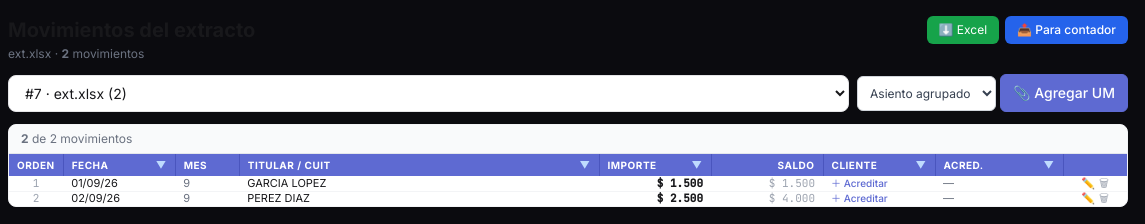
it: Movimientos › recalcula el resumen después de borrar un movimiento
expect the text "GARCIA LOPEZ" is shown: met, box [247,176,326,190]
Click the button titled "Borrar movimiento" in the row of "01/09/26" at (1104, 183), box [1099,177,1109,190]
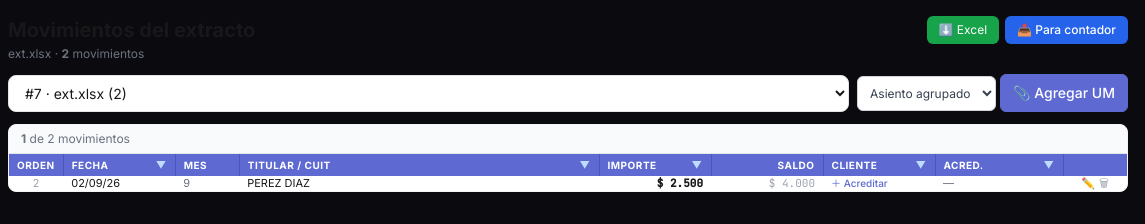
expect the text "GARCIA LOPEZ" is gone: met
